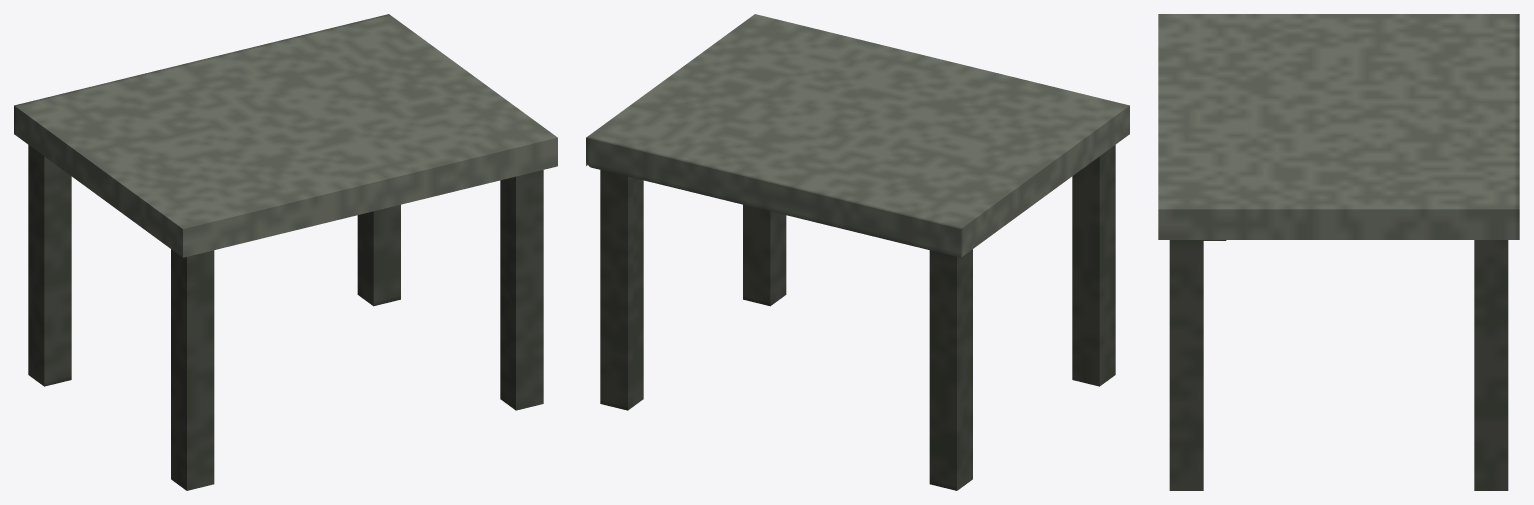
File: STOLIK_RAMEN.dae
3 renders of one model, left to right at view 1: azimuth 30°, elevation 25°; view 2: azimuth 150°, elevation 25°; view 3: azimuth 270°, elevation 25°, orthographic. The views are drawn at different scales.
Parts seen in each view (by area): view 1: Content; view 2: Content; view 3: Content.
Part boxes in pixels (x1,y1,x2,y2): Content: (14, 14, 557, 490); Content: (586, 14, 1129, 490); Content: (1158, 14, 1519, 490).
Bounding box in the file's own units: 41 × 28 × 32.
1 material, 1 textured.
